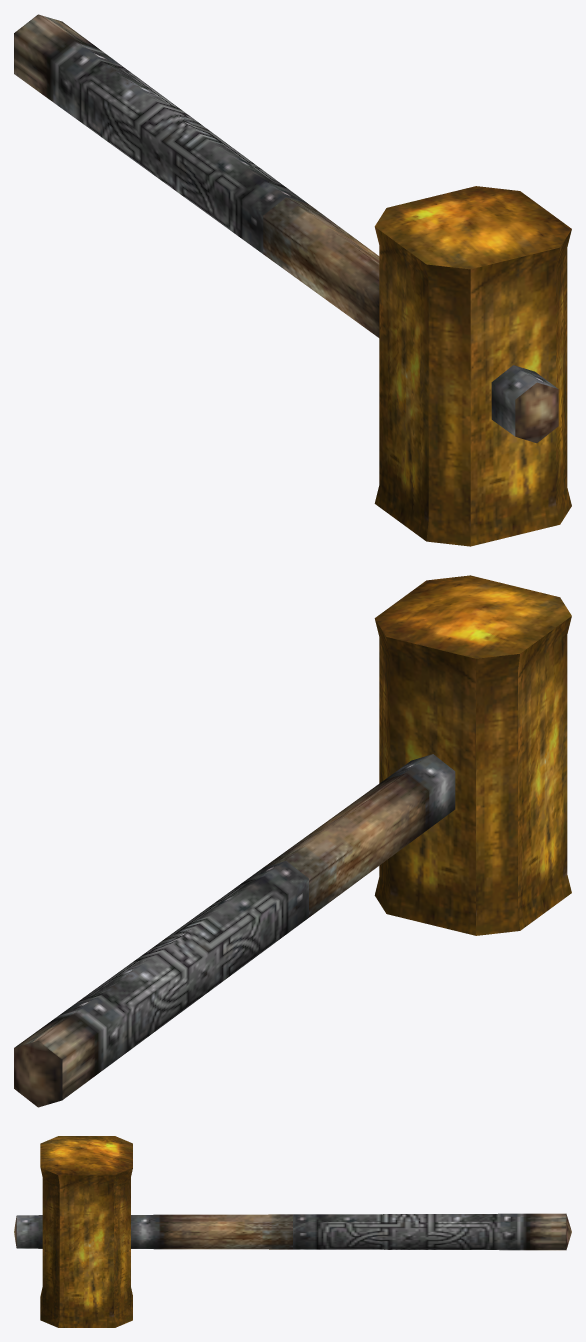
Rendered from waj19.glb.
The picture shows the model from 3 angles, top to bottom: view 1: azimuth 30°, elevation 25°; view 2: azimuth 150°, elevation 25°; view 3: azimuth 270°, elevation 25°; orthographic projection. The views are drawn at different scales.
Parts seen in each view (by area): view 1: waj19; view 2: waj19; view 3: waj19.
Boxes of the visible parts, x1,y1,x2,y2 form: waj19: (14,14,571,546); waj19: (14,575,571,1107); waj19: (14,1136,571,1327).
Size of the model in its own units: 0.1435 by 0.28 by 0.8644.
Materials: 1 (1 with a texture image).
